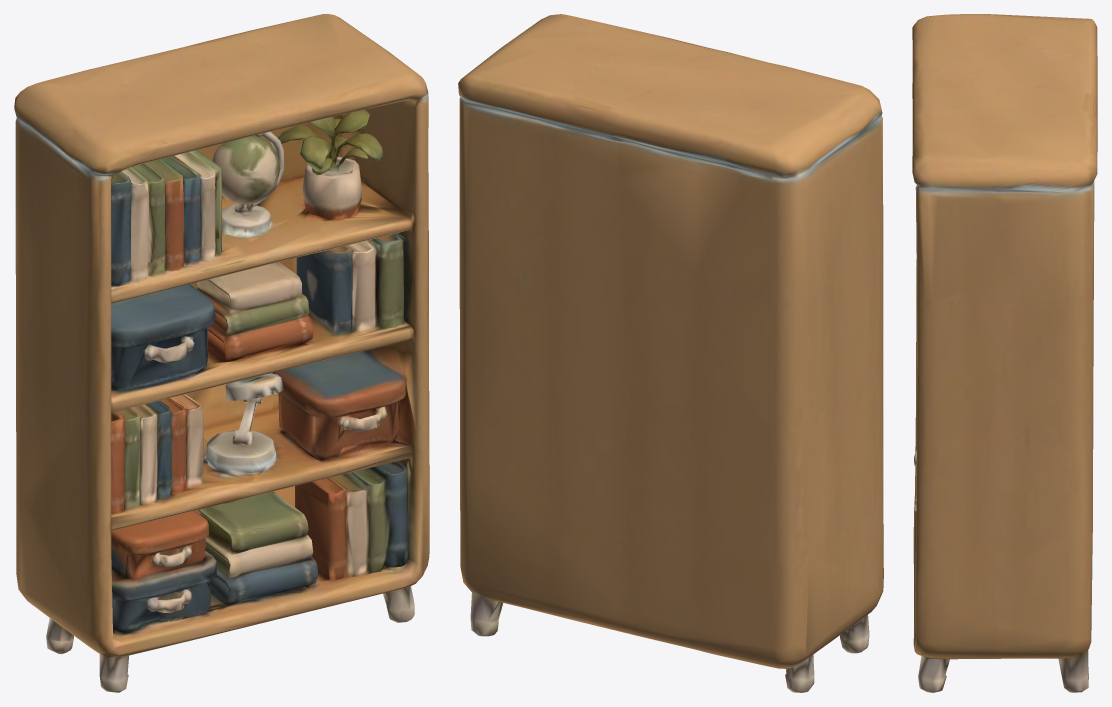
The model's file is bookshelf.medium.glb.
3 views of the same model, side by side, from view 1: azimuth 30°, elevation 25°; view 2: azimuth 150°, elevation 25°; view 3: azimuth 270°, elevation 25° (orthographic). The views are drawn at different scales.
Parts seen in each view (by area): view 1: tripo_node_c3d11c1c-dbd2-4693-8c50-616202747c64; view 2: tripo_node_c3d11c1c-dbd2-4693-8c50-616202747c64; view 3: tripo_node_c3d11c1c-dbd2-4693-8c50-616202747c64.
Boxes of the visible parts, x1,y1,x2,y2 form: tripo_node_c3d11c1c-dbd2-4693-8c50-616202747c64: (14,14,429,692); tripo_node_c3d11c1c-dbd2-4693-8c50-616202747c64: (458,14,883,692); tripo_node_c3d11c1c-dbd2-4693-8c50-616202747c64: (912,14,1097,692).
Bounding box in the file's own units: 1.1 × 1.7 × 0.533.
Materials: 1 (1 with a texture image).
